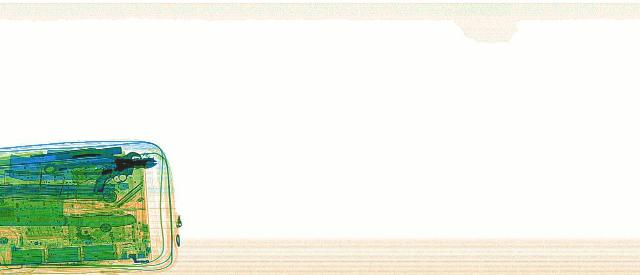Gun: (85, 162, 163, 191)
Knife: (0, 196, 138, 226)
Pliers: (71, 153, 157, 174)
Wrench: (38, 151, 144, 174)
